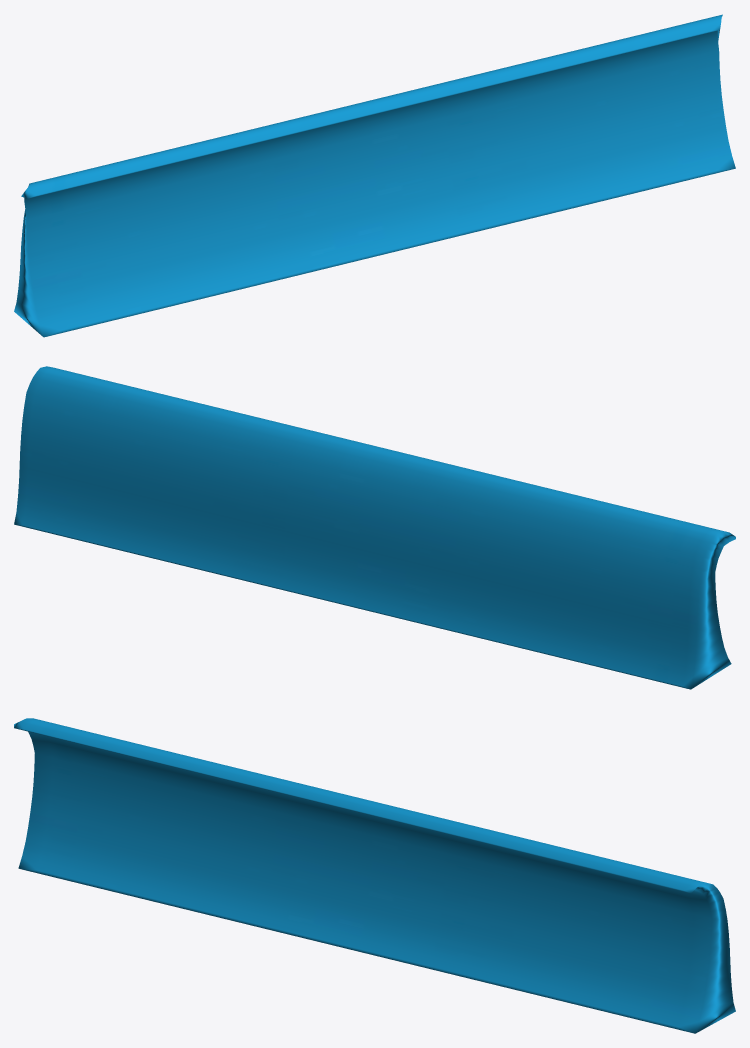
Rendered from tsunami.obj.
3 views of the same model, one above another, from view 1: azimuth 30°, elevation 25°; view 2: azimuth 150°, elevation 25°; view 3: azimuth 330°, elevation 25° (orthographic). The views are drawn at different scales.
Visible parts, largest first — view 1: Tsunami1; view 2: Tsunami1; view 3: Tsunami1.
Boxes of the visible parts, bbox=[...] form: Tsunami1: bbox=[14, 14, 735, 337]; Tsunami1: bbox=[14, 366, 735, 689]; Tsunami1: bbox=[14, 718, 735, 1033].
Bounding box in the file's own units: 283 × 55.45 × 24.49.
Materials: 1 (1 with a texture image).
